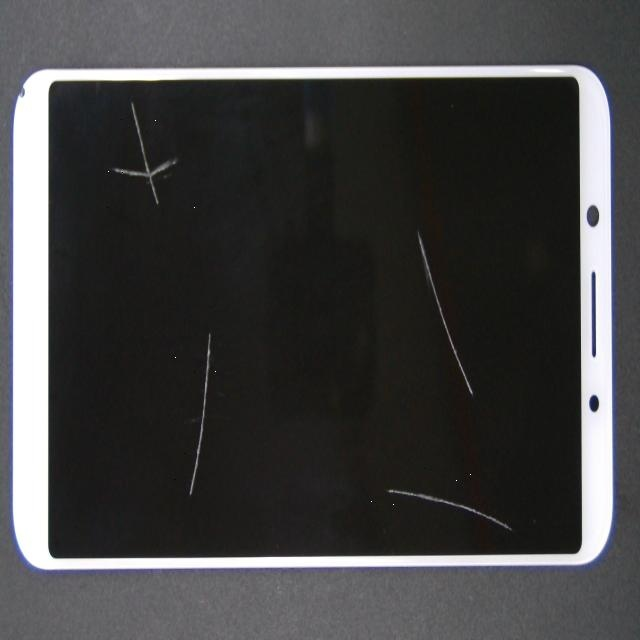scratch: (116, 229, 627, 640), (206, 82, 617, 392), (79, 223, 272, 640), (57, 27, 187, 171)
